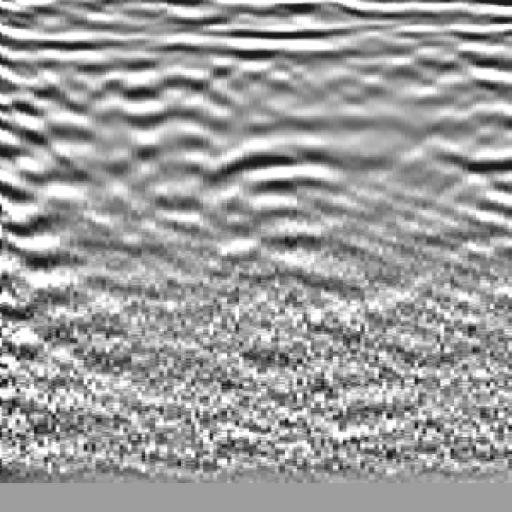metalic: (178, 25, 347, 290)
nonmetalic: (1, 40, 104, 290)
